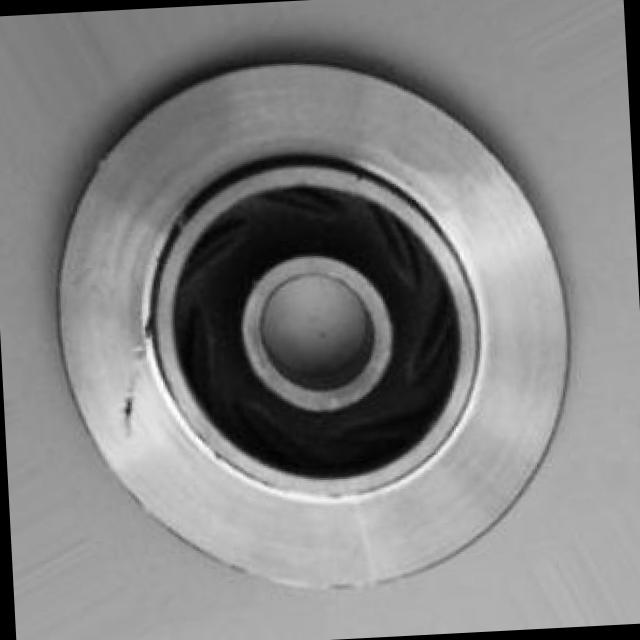Defect: (104, 378, 156, 444)
